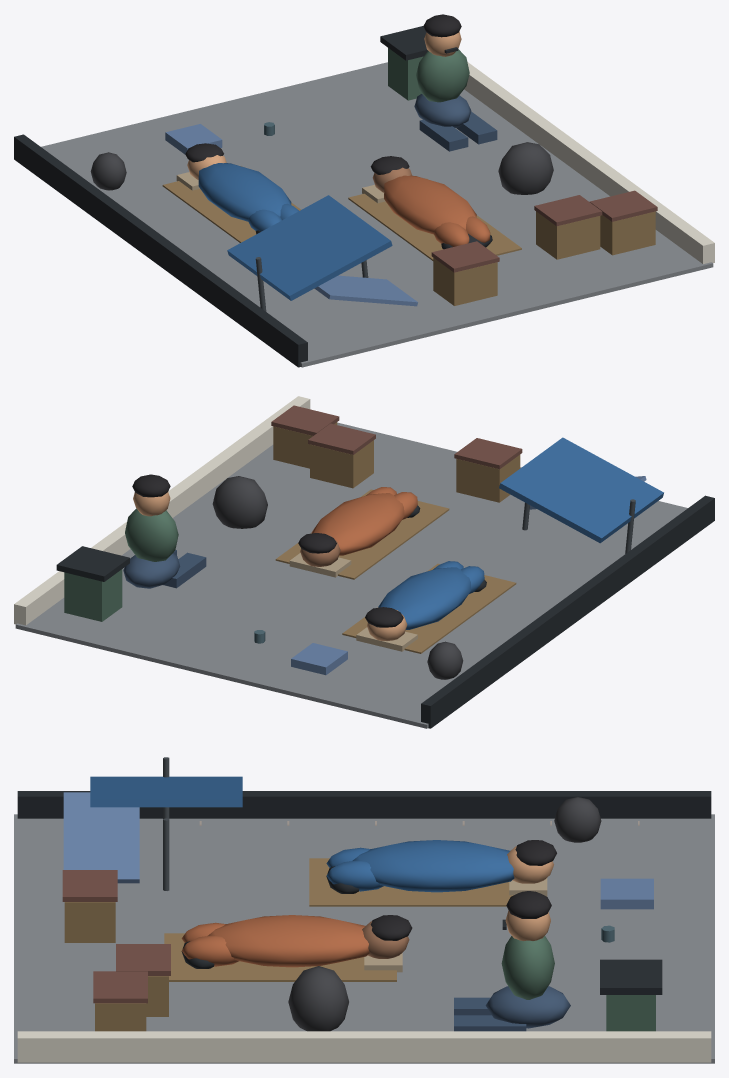
Rendered from campement-trottoir.glb.
The picture shows the model from 3 angles, top to bottom: view 1: azimuth 30°, elevation 25°; view 2: azimuth 150°, elevation 25°; view 3: azimuth 270°, elevation 25°; orthographic projection. The views are drawn at different scales.
Visible parts, largest first — view 1: abri_de_rue_concrete, abri_de_rue_blueFabric, abri_de_rue_dark, abri_de_rue_cardboard, abri_de_rue_bright, abri_de_rue_orangeFabric, abri_de_rue_rust, abri_de_rue_trash, abri_de_rue_green, abri_de_rue_blueLight, abri_de_rue_jeans, abri_de_rue_blackHair (+1 smaller); view 2: abri_de_rue_concrete, abri_de_rue_blueFabric, abri_de_rue_dark, abri_de_rue_cardboard, abri_de_rue_bright, abri_de_rue_green, abri_de_rue_orangeFabric, abri_de_rue_rust, abri_de_rue_trash, abri_de_rue_jeans, abri_de_rue_blackHair, abri_de_rue_beige (+3 smaller); view 3: abri_de_rue_concrete, abri_de_rue_bright, abri_de_rue_dark, abri_de_rue_blueFabric, abri_de_rue_cardboard, abri_de_rue_orangeFabric, abri_de_rue_blueLight, abri_de_rue_rust, abri_de_rue_trash, abri_de_rue_green, abri_de_rue_jeans, abri_de_rue_blackHair (+4 smaller).
Part boxes in pixels (x1,y1,x2,y2): abri_de_rue_concrete: (41, 62, 713, 367); abri_de_rue_blueFabric: (198, 163, 392, 300); abri_de_rue_dark: (14, 26, 492, 367); abri_de_rue_cardboard: (162, 166, 655, 305); abri_de_rue_bright: (464, 62, 714, 264); abri_de_rue_orangeFabric: (384, 175, 490, 246); abri_de_rue_rust: (431, 190, 657, 272); abri_de_rue_trash: (90, 142, 553, 194); abri_de_rue_green: (388, 48, 469, 102); abri_de_rue_blueLight: (165, 124, 417, 306); abri_de_rue_jeans: (414, 94, 497, 151); abri_de_rue_blackHair: (185, 14, 461, 174); abri_de_rue_concrete: (15, 422, 687, 728); abri_de_rue_blueFabric: (378, 437, 663, 629); abri_de_rue_dark: (56, 495, 714, 728); abri_de_rue_cardboard: (273, 422, 520, 653); abri_de_rue_bright: (14, 396, 310, 625); abri_de_rue_green: (64, 508, 178, 621); abri_de_rue_orangeFabric: (311, 487, 417, 555); abri_de_rue_rust: (271, 405, 522, 469); abri_de_rue_trash: (212, 476, 463, 679); abri_de_rue_jeans: (123, 550, 206, 588); abri_de_rue_blackHair: (132, 474, 403, 627); abri_de_rue_beige: (289, 553, 417, 651); abri_de_rue_concrete: (14, 814, 714, 1063); abri_de_rue_bright: (17, 1031, 711, 1062); abri_de_rue_dark: (17, 791, 711, 994); abri_de_rue_blueFabric: (90, 776, 514, 892); abri_de_rue_cardboard: (64, 858, 513, 1031); abri_de_rue_orangeFabric: (181, 915, 369, 967); abri_de_rue_blueLight: (63, 792, 653, 909); abri_de_rue_rust: (62, 870, 170, 1003); abri_de_rue_trash: (288, 797, 601, 1031); abri_de_rue_green: (501, 936, 655, 1031); abri_de_rue_jeans: (454, 986, 570, 1031); abri_de_rue_blackHair: (370, 840, 556, 940).
Size of the model in its own units: 7.7 by 2.06 by 9.2.
